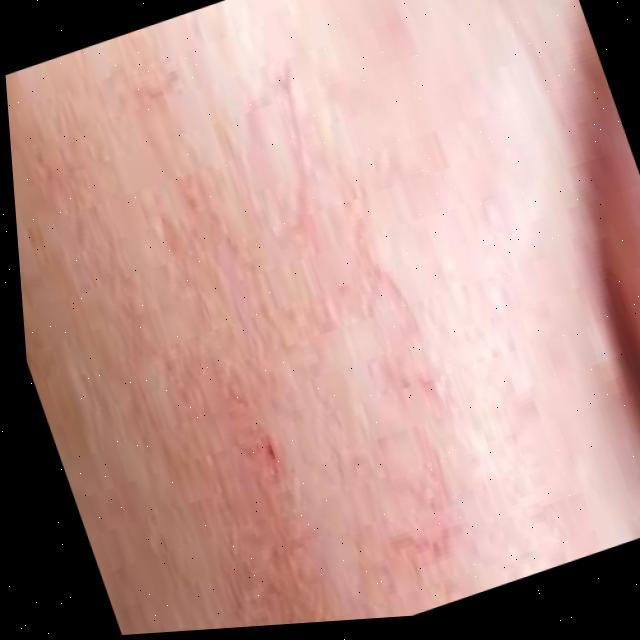Rosacea: (57, 48, 546, 633)
